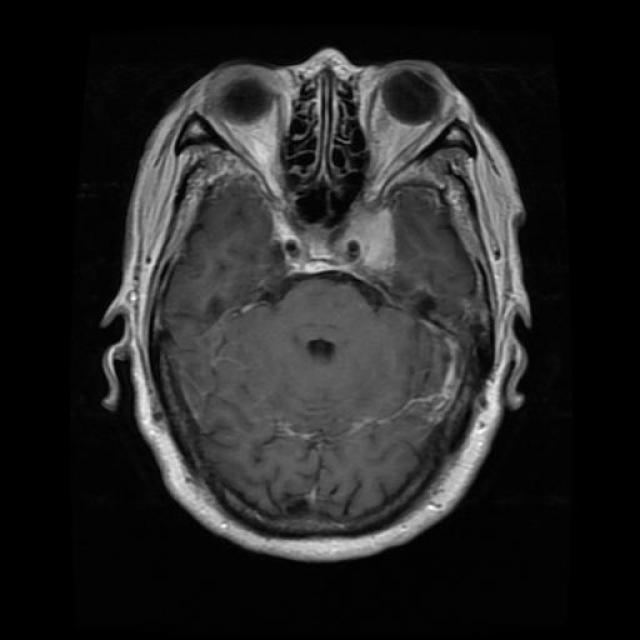Tumor: (344, 206, 400, 288)
